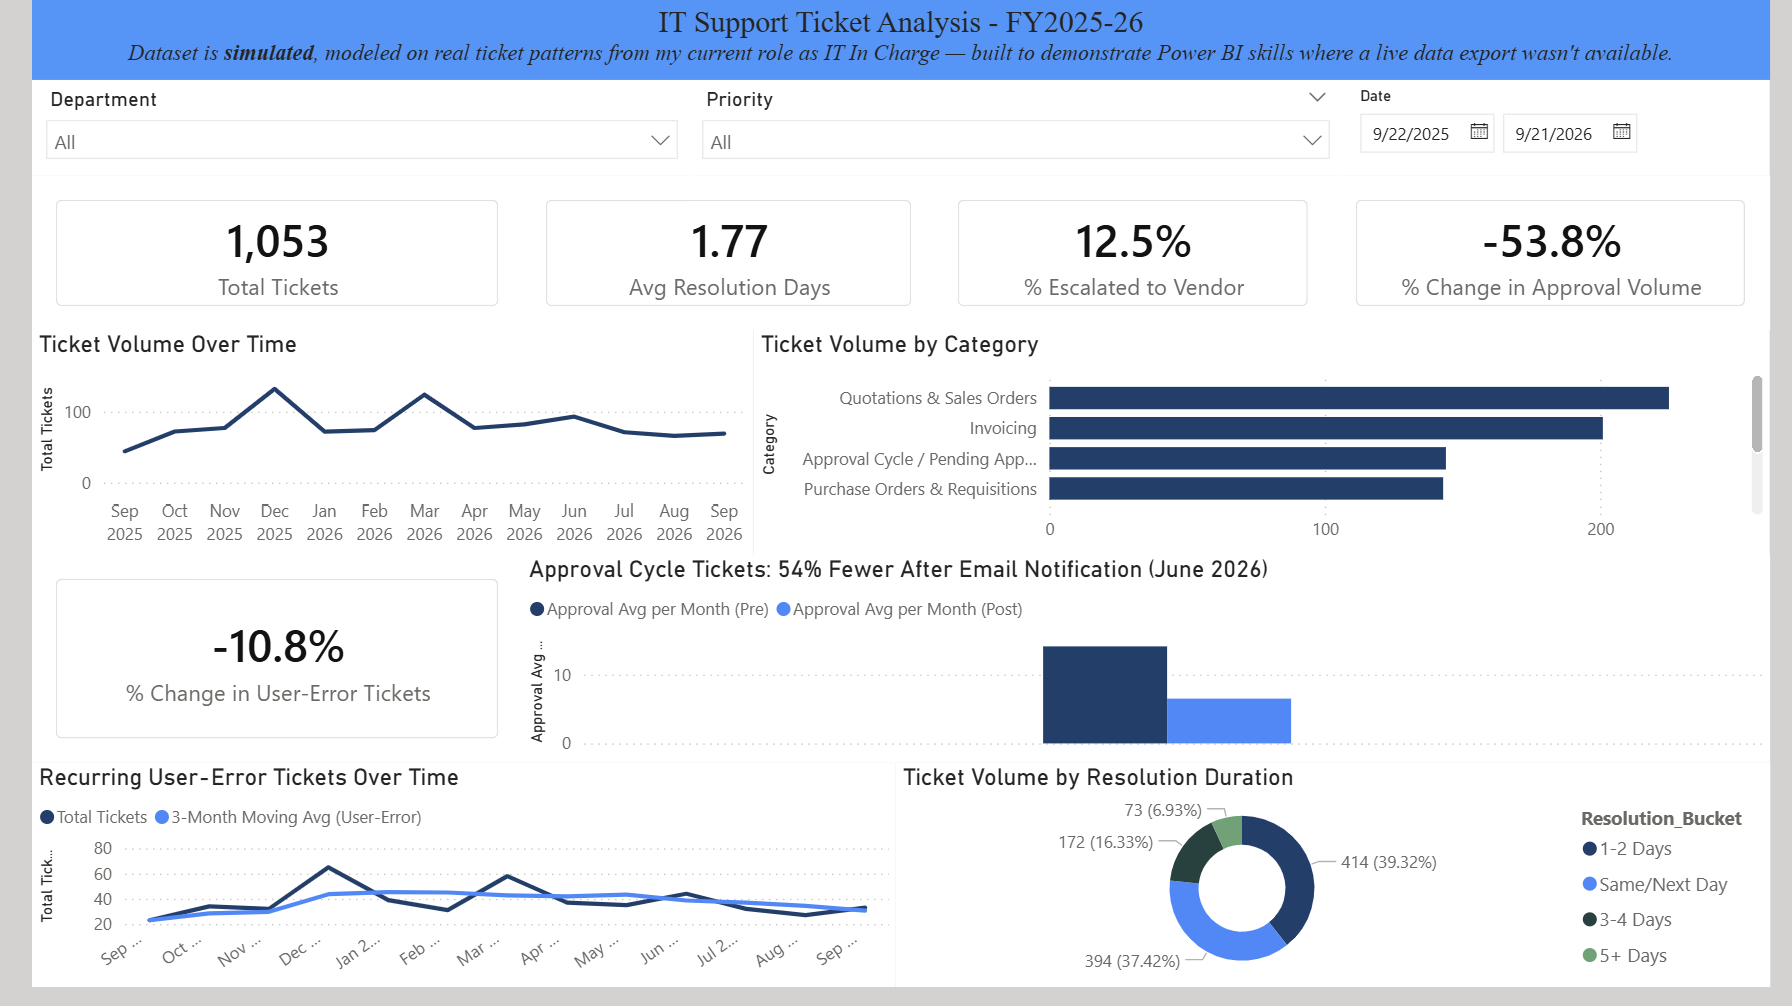

The page's visual inventory and layout, read from the dashboard file:
{"tool":"powerbi","page":{"name":"Page 1","canvas":[1280,720],"ordinal":0},"visuals":[{"type":"cardVisual","fields":{"Data":["Tickets.Total Tickets"]},"box":[0,68.2,357.9,121.3],"z":0},{"type":"cardVisual","fields":{"Data":["Tickets.Avg Resolution Days"]},"box":[357.9,69.8,307.9,119.8],"z":1000},{"type":"cardVisual","fields":{"Data":["Tickets.% Escalated to Vendor"]},"box":[667.3,68.2,307.9,121.3],"z":2000},{"type":"cardVisual","fields":{"Data":["Tickets.% Change in Approval Volume"]},"box":[972.1,68.2,307.9,121.3],"z":3000},{"type":"lineChart","fields":{"Category":["DateTable.MonthYear"],"Y":["Tickets.Total Tickets"]},"box":[0,206.3,667.3,168.3],"z":4000},{"type":"clusteredBarChart","fields":{"Category":["Tickets.Category"],"Y":["Tickets.Total Tickets"]},"box":[665.8,206.3,612.7,169.9],"z":5000},{"type":"clusteredColumnChart","title":"Approval Cycle Tickets: Before vs After Email Notification (June 2026)","fields":{"Y":["Tickets.Approval Avg per Month (Pre)","Tickets.Approval Avg per Month (Post)"]},"box":[357.9,374.6,922.1,159.2],"z":6000},{"type":"lineChart","title":"Recurring User-Error Tickets Over Time","fields":{"Category":["DateTable.MonthYear"],"Y":["Tickets.Total Tickets","Tickets.3-Month Moving Avg (User-Error)"]},"box":[0,542.9,640,177.4],"z":7000},{"type":"donutChart","fields":{"Category":["Tickets.Resolution_Bucket"],"Y":["Tickets.Total Tickets"]},"box":[640,543,640,177],"z":8000},{"type":"cardVisual","fields":{"Data":["Tickets.% Change in User-Error Tickets"]},"box":[0,374.6,357.9,159.2],"z":9000},{"type":"slicer","fields":{"Values":["Tickets.Department"]},"box":[0,0,492.9,68.2],"z":10000},{"type":"slicer","fields":{"Values":["Tickets.Priority"]},"box":[492.9,1.5,468.6,68.2],"z":11000},{"type":"slicer","fields":{"Values":["DateTable.Date"]},"box":[960,0,321.5,68.2],"z":12000}]}

Visuals, with their boxes in screenshot pixels (x1, y1, x2, y2), scaled from the page's 1280x720 canvas onto the 1792x1006 screenshot:
cardVisual - Tickets.Total Tickets: locate(0, 95, 501, 265)
cardVisual - Tickets.Avg Resolution Days: locate(501, 98, 932, 265)
cardVisual - Tickets.% Escalated to Vendor: locate(934, 95, 1365, 265)
cardVisual - Tickets.% Change in Approval Volume: locate(1361, 95, 1791, 265)
lineChart - DateTable.MonthYear x Tickets.Total Tickets: locate(0, 288, 934, 523)
clusteredBarChart - Tickets.Category x Tickets.Total Tickets: locate(932, 288, 1790, 526)
"Approval Cycle Tickets: Before vs After Email Notification (June 2026)" clusteredColumnChart: locate(501, 523, 1791, 746)
"Recurring User-Error Tickets Over Time" lineChart: locate(0, 759, 896, 1005)
donutChart - Tickets.Resolution_Bucket x Tickets.Total Tickets: locate(896, 759, 1791, 1005)
cardVisual - Tickets.% Change in User-Error Tickets: locate(0, 523, 501, 746)
slicer - Tickets.Department: locate(0, 0, 690, 95)
slicer - Tickets.Priority: locate(690, 2, 1346, 97)
slicer - DateTable.Date: locate(1344, 0, 1791, 95)
